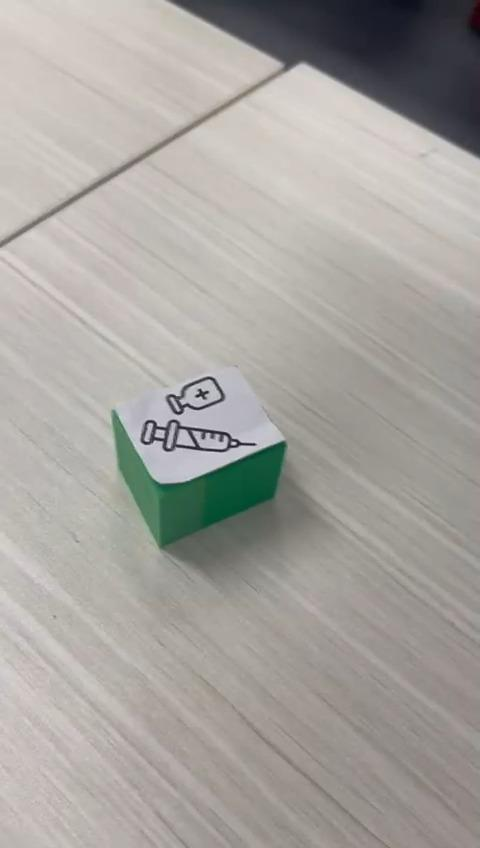antiseptic cream: (109, 363, 288, 549)
